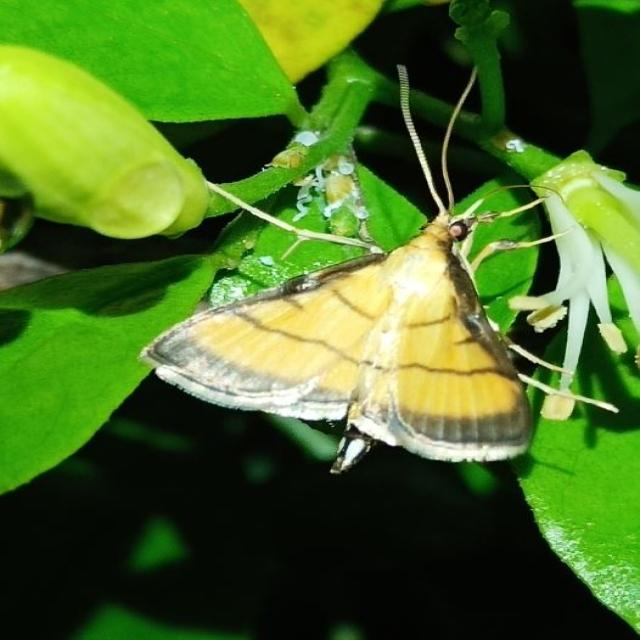rice leaf roller -penggulung daun padi-: (135, 61, 606, 476)
